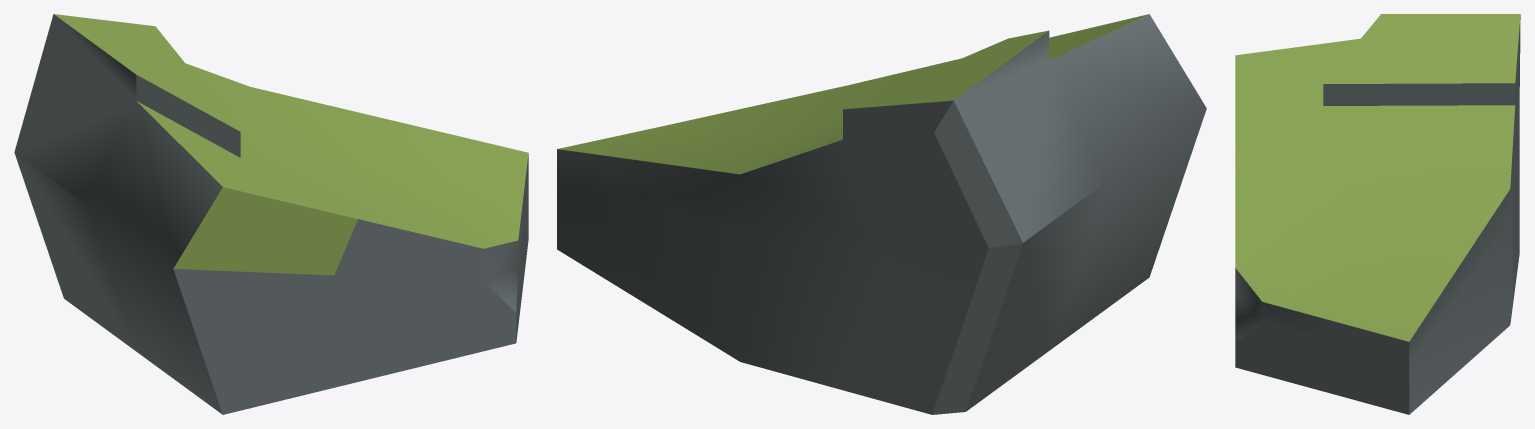
Rendered from rock05.fbx.
The picture shows the model from 3 angles, left to right: view 1: azimuth 30°, elevation 25°; view 2: azimuth 150°, elevation 25°; view 3: azimuth 270°, elevation 25°; orthographic projection. The views are drawn at different scales.
Visible parts, largest first — view 1: pCube9; view 2: pCube9; view 3: pCube9.
Boxes of the visible parts, box(x1,y1,x2,y2) form: pCube9: box(14, 14, 528, 414); pCube9: box(557, 14, 1206, 414); pCube9: box(1235, 14, 1520, 414).
Bounding box in the file's own units: 24.81 × 14.32 × 15.87.
